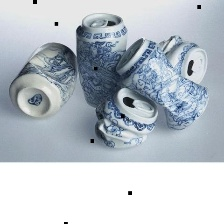can: (113, 35, 211, 133), (6, 40, 81, 120), (73, 9, 128, 109), (91, 86, 154, 150), (156, 32, 209, 86)
